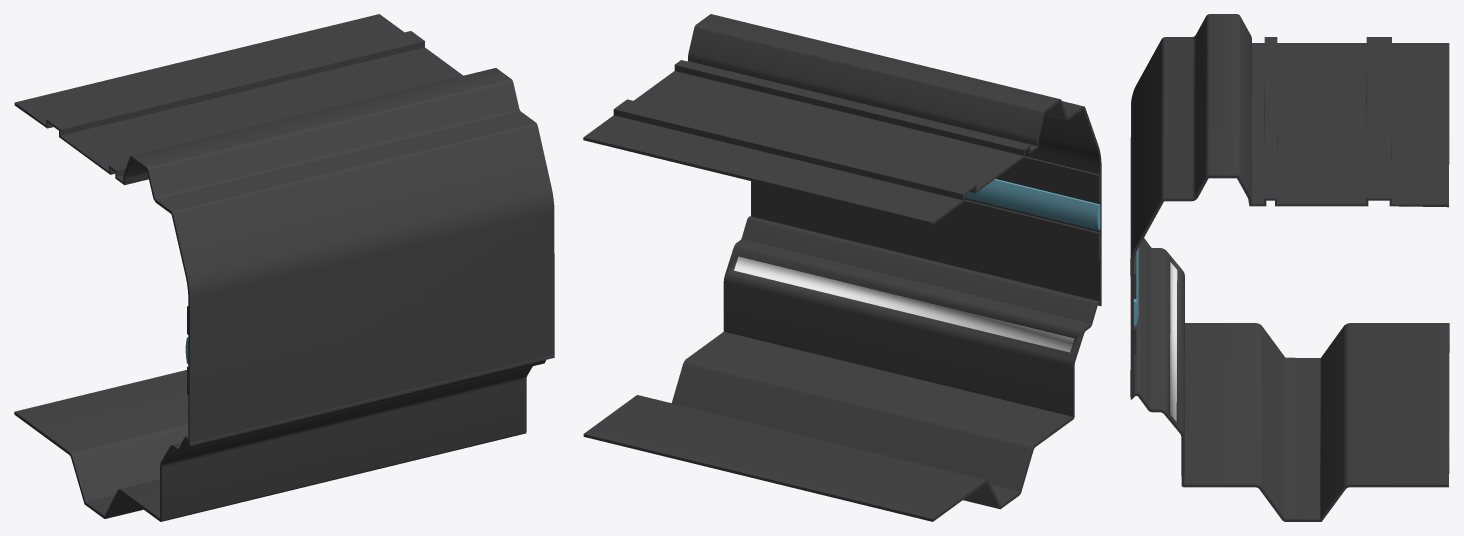
File: Corridor_Test.fbx
3 views of the same model, side by side, from view 1: azimuth 30°, elevation 25°; view 2: azimuth 150°, elevation 25°; view 3: azimuth 270°, elevation 25° (orthographic). The views are drawn at different scales.
Visible parts, largest first — view 1: Corridor; view 2: Corridor; view 3: Corridor.
Boxes of the visible parts, bbox=[...] form: Corridor: bbox=[14, 14, 554, 521]; Corridor: bbox=[583, 14, 1101, 521]; Corridor: bbox=[1130, 14, 1449, 521].
Bounding box in the file's own units: 600 × 600 × 501.
